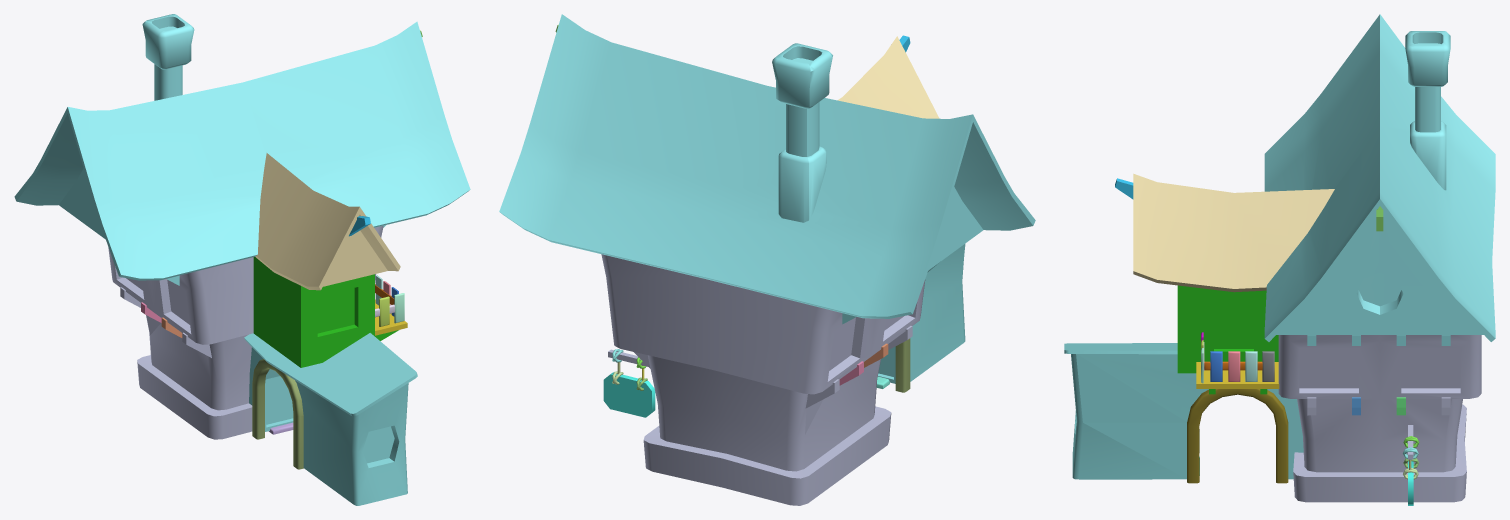
The picture shows the model from 3 angles, left to right: view 1: azimuth 30°, elevation 25°; view 2: azimuth 150°, elevation 25°; view 3: azimuth 270°, elevation 25°; orthographic projection. The views are drawn at different scales.
Parts seen in each view (by area): view 1: split_parent_18, split_parent_12, split_parent_17, split_parent_14, cartoon_house_lp5_house_02_0, cartoon_house_lp19_house_03_0.008; view 2: split_parent_18, split_parent_17, split_parent_12, split_parent_14, cartoon_house_lp11_house_04_0, cartoon_house_lp19_house_03_0.008; view 3: split_parent_18, split_parent_17, split_parent_14, split_parent_12, cartoon_house_lp5_house_02_0, cartoon_house_lp19_house_03_0, cartoon_house_lp4_house_02_0.
Boxes of the visible parts, x1,y1,x2,y2 form: split_parent_18: [14, 14, 470, 285]; split_parent_12: [244, 333, 417, 505]; split_parent_17: [108, 225, 383, 439]; split_parent_14: [255, 153, 400, 290]; cartoon_house_lp5_house_02_0: [253, 257, 398, 367]; cartoon_house_lp19_house_03_0.008: [252, 359, 303, 469]; split_parent_18: [499, 14, 1035, 324]; split_parent_17: [601, 254, 925, 505]; split_parent_12: [877, 244, 965, 383]; split_parent_14: [837, 36, 939, 118]; cartoon_house_lp11_house_04_0: [603, 372, 655, 417]; cartoon_house_lp19_house_03_0.008: [895, 338, 910, 392]; split_parent_18: [1264, 14, 1495, 345]; split_parent_17: [1278, 335, 1481, 502]; split_parent_14: [1133, 173, 1334, 292]; split_parent_12: [1064, 343, 1303, 479]; cartoon_house_lp5_house_02_0: [1177, 285, 1278, 394]; cartoon_house_lp19_house_03_0: [1187, 389, 1288, 483]; cartoon_house_lp4_house_02_0: [1196, 362, 1279, 388].
Bounding box in the file's own units: 0.9985 × 1 × 0.973.
